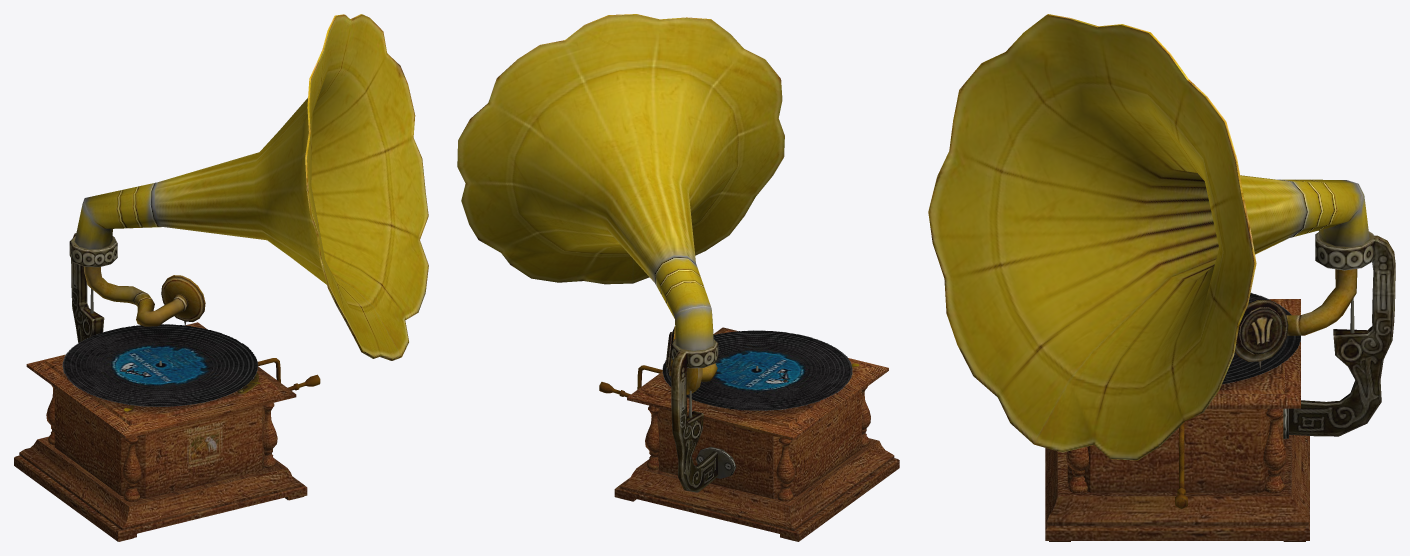
Rendered from vintage_record_player.gltf.
3 views of the same model, side by side, from view 1: azimuth 30°, elevation 25°; view 2: azimuth 150°, elevation 25°; view 3: azimuth 270°, elevation 25° (orthographic). The views are drawn at different scales.
Parts seen in each view (by area): view 1: Box001_Material #42_0; view 2: Box001_Material #42_0; view 3: Box001_Material #42_0.
Part boxes in pixels (box(x1,y1,x2,y2)): Box001_Material #42_0: box(14, 14, 428, 541); Box001_Material #42_0: box(457, 14, 899, 541); Box001_Material #42_0: box(928, 14, 1395, 541).
Bounding box in the file's own units: 73.5 × 80.81 × 61.84.
1 material, 1 textured.
